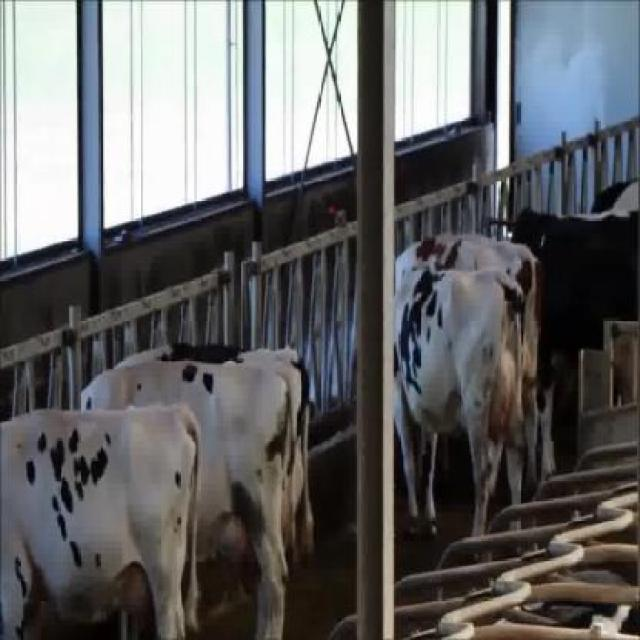Cow: (80, 357, 298, 638), (2, 398, 202, 638), (394, 266, 528, 559)
